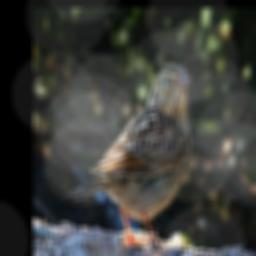Sparrow: (61, 55, 198, 251)
